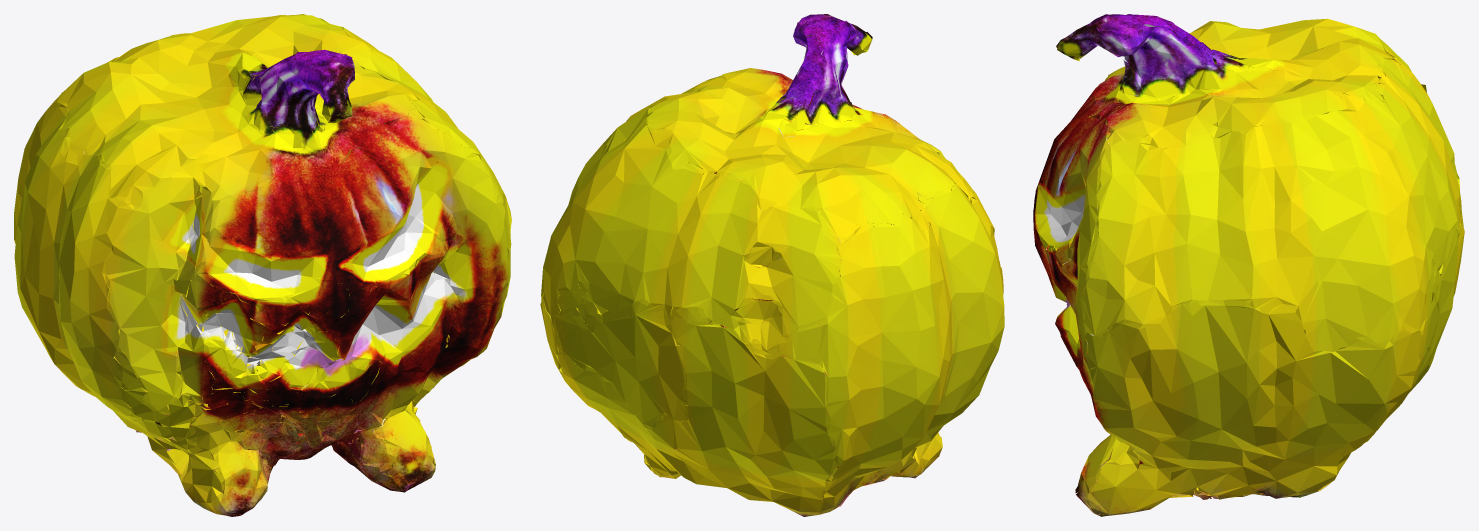
Rendered from calabaza3.dae.
The picture shows the model from 3 angles, left to right: view 1: azimuth 30°, elevation 25°; view 2: azimuth 150°, elevation 25°; view 3: azimuth 270°, elevation 25°; orthographic projection. The views are drawn at different scales.
Visible parts, largest first — view 1: calabaza; view 2: calabaza; view 3: calabaza.
Boxes of the visible parts, box(x1,y1,x2,y2) form: calabaza: box(14, 14, 511, 516); calabaza: box(540, 14, 1004, 516); calabaza: box(1033, 14, 1464, 516).
Bounding box in the file's own units: 1.68 × 1.46 × 1.71.
1 material, 1 textured.
